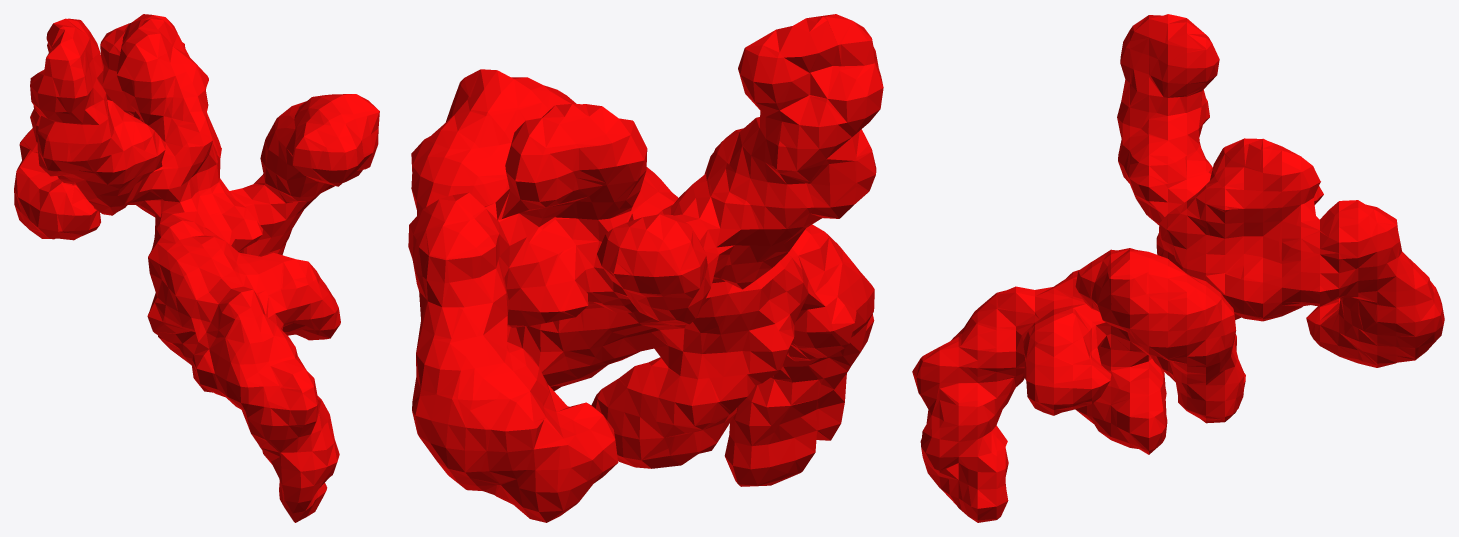
File: tig_coarse.dae
3 views of the same model, side by side, from view 1: azimuth 30°, elevation 25°; view 2: azimuth 150°, elevation 25°; view 3: azimuth 270°, elevation 25° (orthographic). The views are drawn at different scales.
Visible parts, largest first — view 1: tig; view 2: tig; view 3: tig.
Boxes of the visible parts, x1,y1,x2,y2 form: tig: (14, 14, 379, 522); tig: (408, 14, 883, 522); tig: (912, 14, 1444, 522).
Size of the model in its own units: 104 by 135 by 148.
